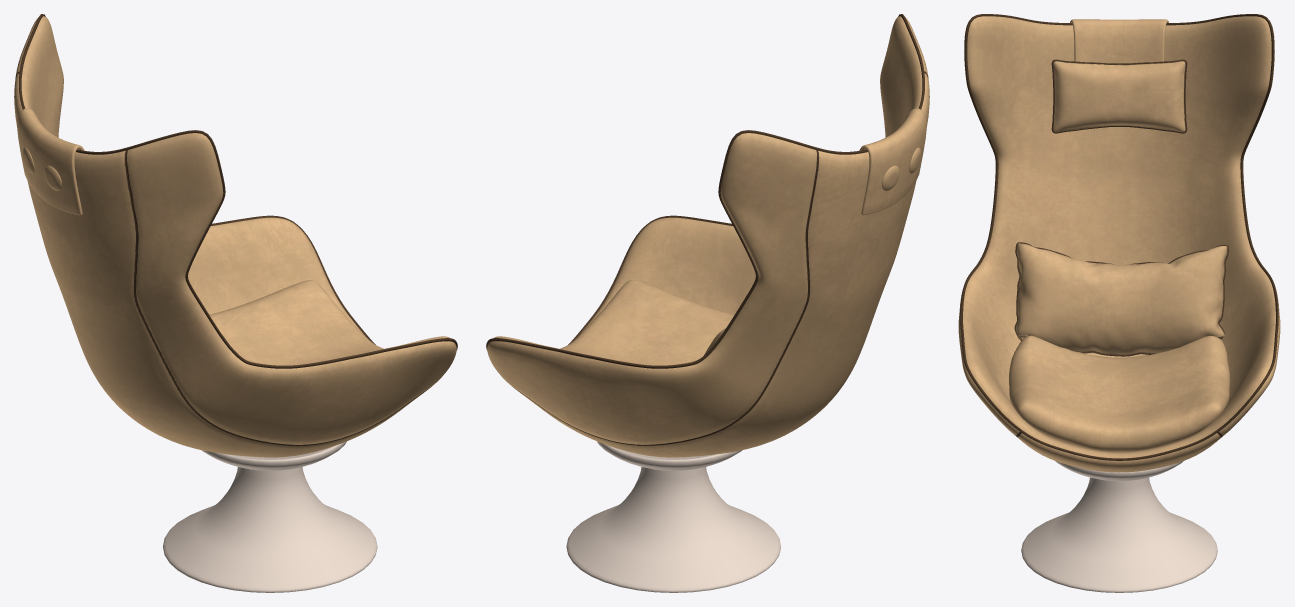
The model's file is Chair.fbx.
3 views of the same model, side by side, from view 1: azimuth 30°, elevation 25°; view 2: azimuth 150°, elevation 25°; view 3: azimuth 270°, elevation 25° (orthographic). The views are drawn at different scales.
Visible parts, largest first — view 1: Chair.001, leg; view 2: Chair.001, leg; view 3: Chair.001, leg.
Part boxes in pixels (x1=…): Chair.001: x1=14, y1=14, x2=457, y2=457; leg: x1=163, y1=441, x2=377, y2=592; Chair.001: x1=486, y1=14, x2=929, y2=457; leg: x1=566, y1=441, x2=780, y2=592; Chair.001: x1=958, y1=14, x2=1280, y2=472; leg: x1=1021, y1=461, x2=1217, y2=592.
Size of the model in its own units: 92.96 by 129 by 79.91.
